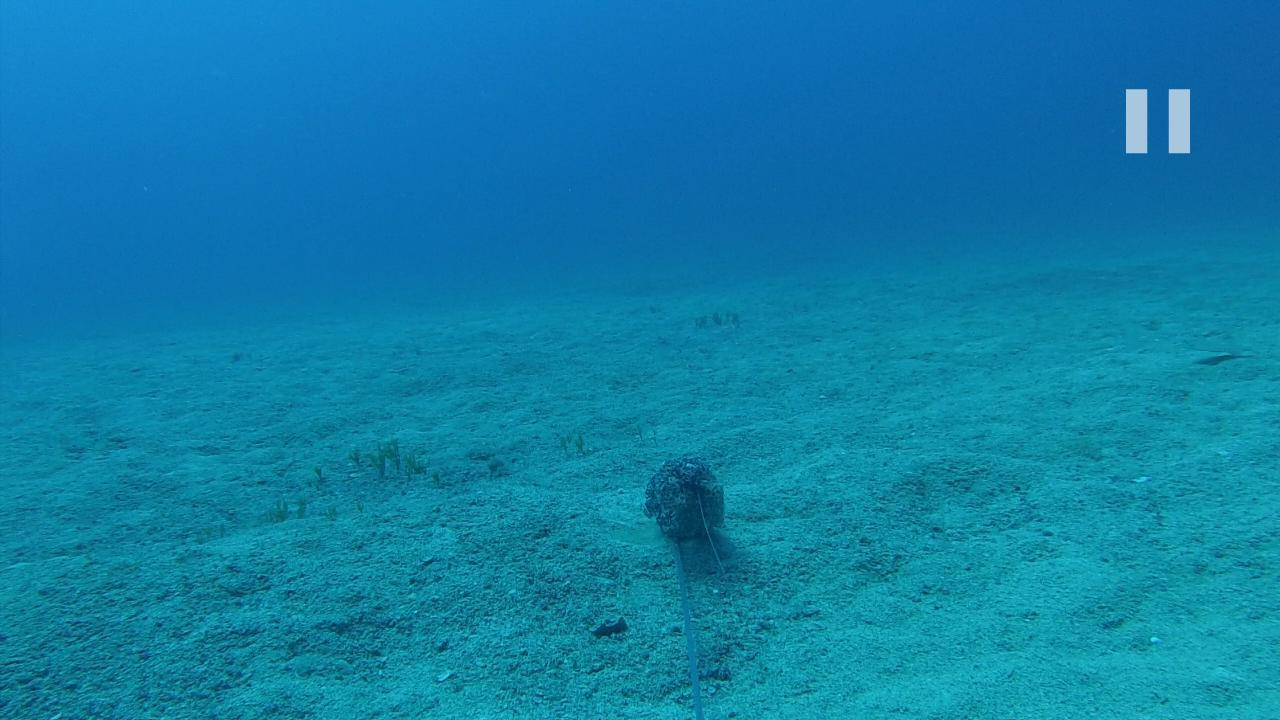bothus: (1193, 345, 1254, 375)
